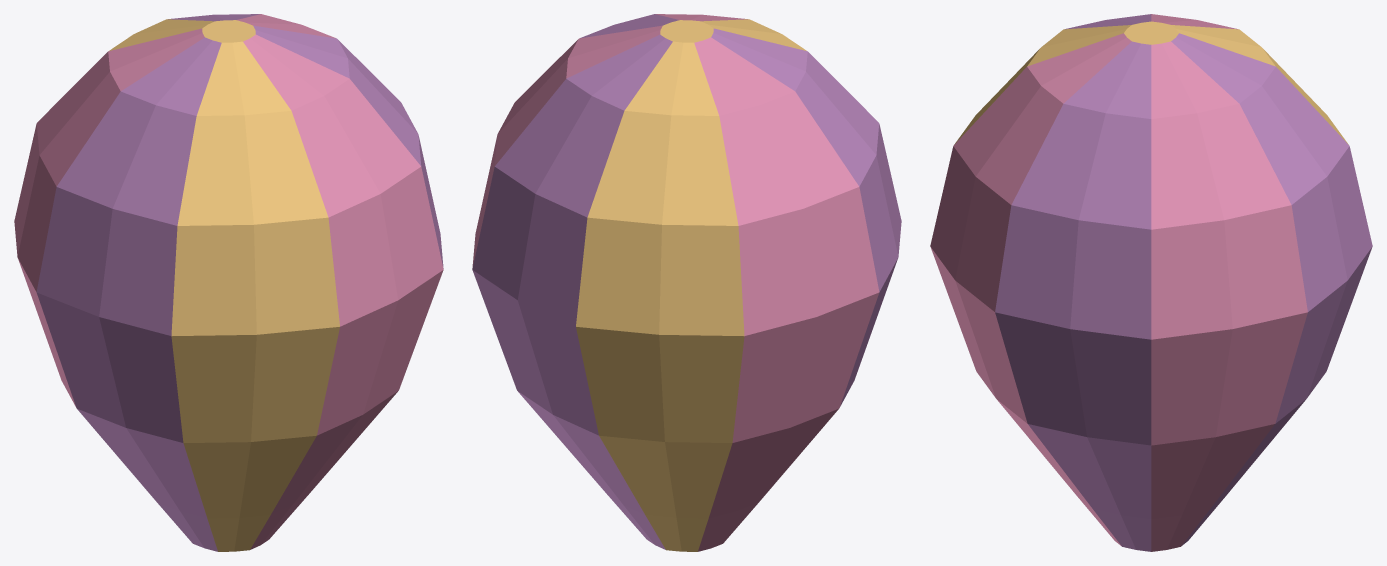
3 views of the same model, side by side, from view 1: azimuth 30°, elevation 25°; view 2: azimuth 150°, elevation 25°; view 3: azimuth 270°, elevation 25° (orthographic).
Visible parts, largest first — view 1: 八瓣折纸气囊.001; view 2: 八瓣折纸气囊.001; view 3: 八瓣折纸气囊.001.
Part boxes in pixels (x1,y1,x2,y2): 八瓣折纸气囊.001: (14, 14, 443, 551); 八瓣折纸气囊.001: (472, 14, 901, 551); 八瓣折纸气囊.001: (930, 14, 1372, 551).
Size of the model in its own units: 0.96 by 1.2 by 0.96.
